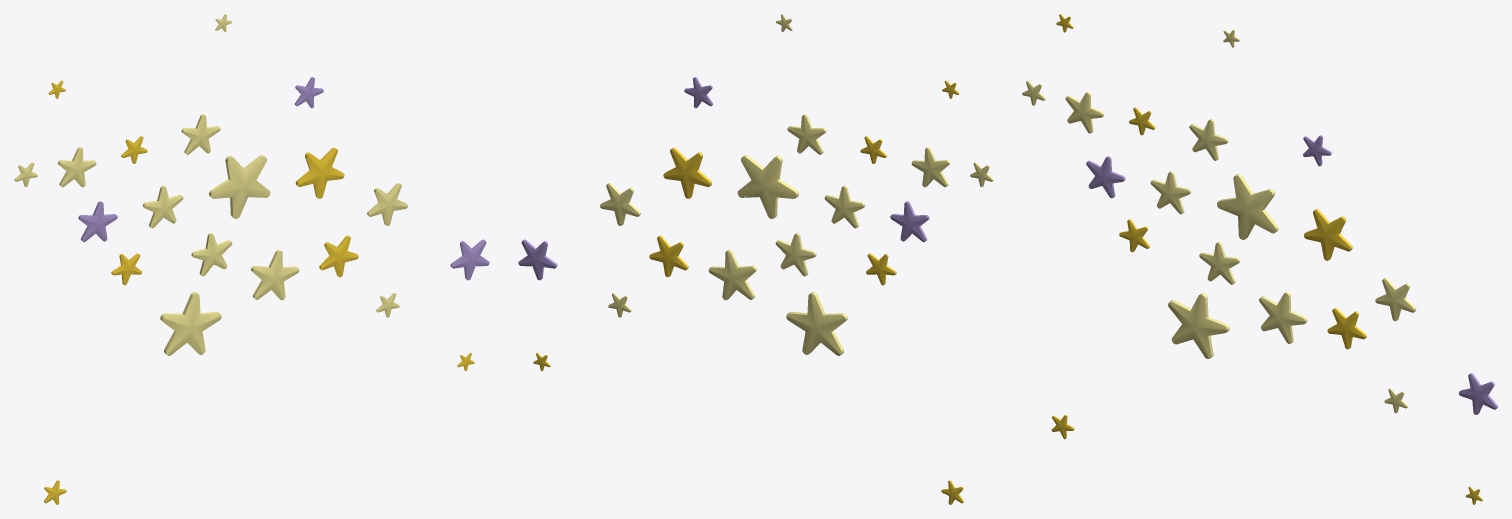
File: milky_way.fbx
The picture shows the model from 3 angles, left to right: view 1: azimuth 30°, elevation 25°; view 2: azimuth 150°, elevation 25°; view 3: azimuth 330°, elevation 25°; orthographic projection.
Visible parts, largest first — view 1: Circle.2507; view 2: Circle.2507; view 3: Circle.2507.
Part boxes in pixels (x1,y1,x2,y2): Circle.2507: (14,14,489,504); Circle.2507: (518,14,993,504); Circle.2507: (1022,14,1497,504).
Bounding box in the file's own units: 202 × 183 × 4.55.
Materials: 1 (1 with a texture image).
